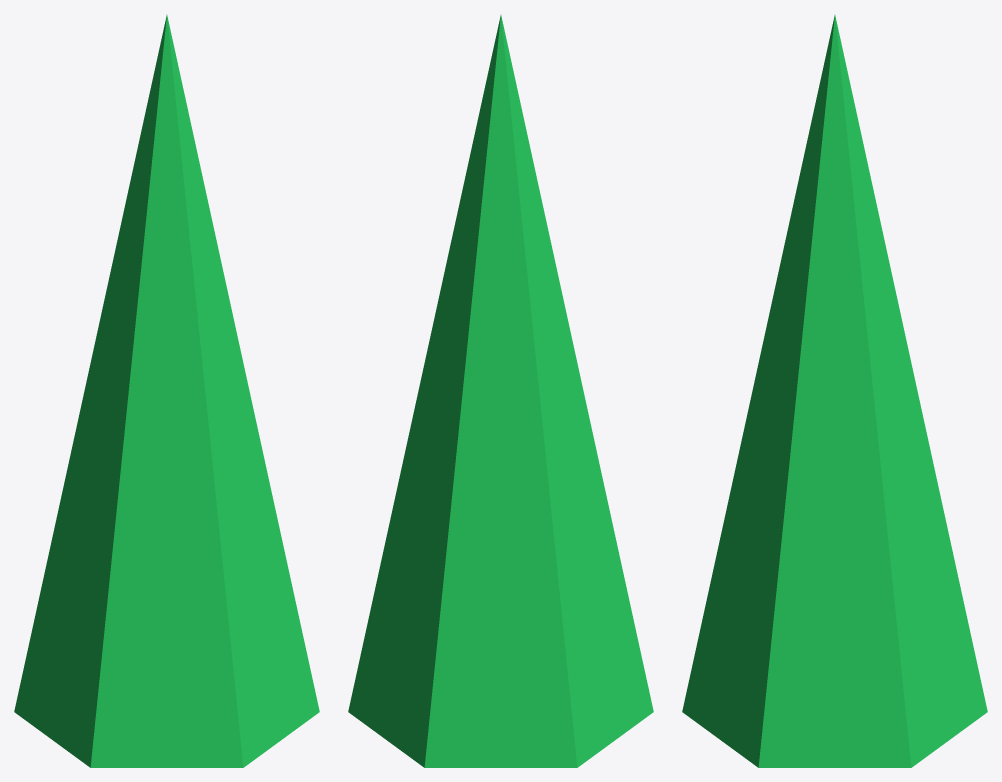
Rendered from low_poly_pine.glb.
3 views of the same model, side by side, from view 1: azimuth 30°, elevation 25°; view 2: azimuth 150°, elevation 25°; view 3: azimuth 270°, elevation 25° (orthographic).
Visible parts, largest first — view 1: Cone; view 2: Cone; view 3: Cone.
Boxes of the visible parts, x1,y1,x2,y2 form: Cone: (14, 15, 319, 767); Cone: (348, 15, 653, 767); Cone: (682, 15, 987, 767).
Bounding box in the file's own units: 5.93 × 17.27 × 6.85.
